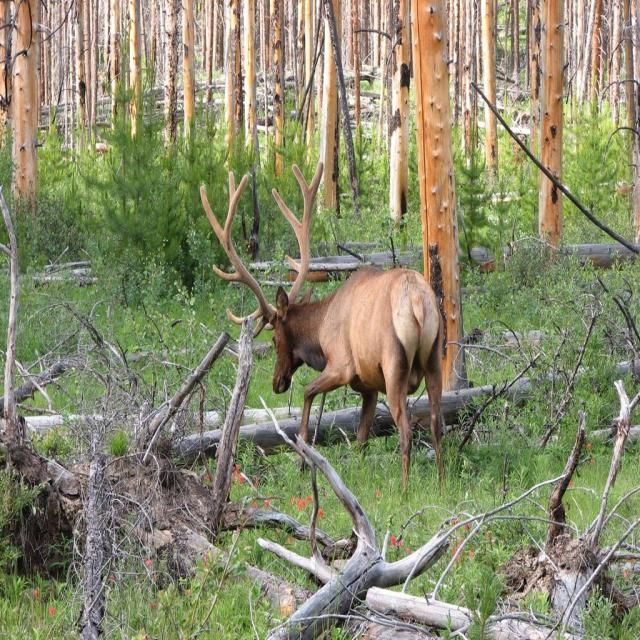Deer: (202, 160, 446, 504)
